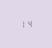four: (26, 19, 32, 27)
one: (19, 20, 25, 28)
